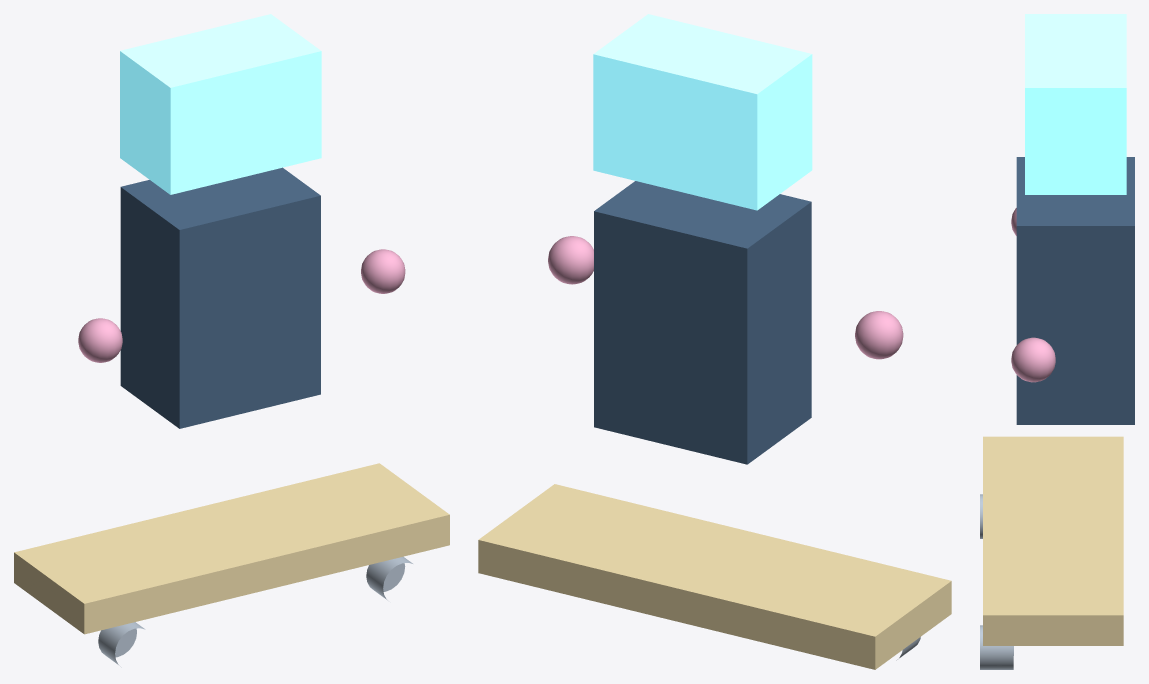
File: neon-skate-bot.glb
The picture shows the model from 3 angles, left to right: view 1: azimuth 30°, elevation 25°; view 2: azimuth 150°, elevation 25°; view 3: azimuth 270°, elevation 25°; orthographic projection. The views are drawn at different scales.
Parts seen in each view (by area): view 1: neon-skate-bot-bot-body, neon-skate-bot-skateboard, neon-skate-bot-bot-head, neon-skate-bot-right-hand, neon-skate-bot-left-hand, neon-skate-bot-back-wheel, neon-skate-bot-front-wheel; view 2: neon-skate-bot-bot-body, neon-skate-bot-skateboard, neon-skate-bot-bot-head, neon-skate-bot-left-hand, neon-skate-bot-right-hand; view 3: neon-skate-bot-skateboard, neon-skate-bot-bot-body, neon-skate-bot-bot-head, neon-skate-bot-right-hand, neon-skate-bot-front-wheel.
Part boxes in pixels (x1,y1,x2,y2): neon-skate-bot-bot-body: (120,167,320,428); neon-skate-bot-skateboard: (14,463,449,634); neon-skate-bot-bot-head: (120,14,321,194); neon-skate-bot-right-hand: (361,249,405,293); neon-skate-bot-left-hand: (78,318,122,362); neon-skate-bot-back-wheel: (98,622,145,667); neon-skate-bot-front-wheel: (366,556,412,600); neon-skate-bot-bot-body: (594,181,811,464); neon-skate-bot-skateboard: (478,484,951,669); neon-skate-bot-bot-head: (593,14,812,210); neon-skate-bot-left-hand: (855,311,903,359); neon-skate-bot-right-hand: (548,236,593,284); neon-skate-bot-skateboard: (983,436,1123,645); neon-skate-bot-bot-body: (1016,157,1134,424); neon-skate-bot-bot-head: (1025,14,1126,194); neon-skate-bot-right-hand: (1011,337,1055,382); neon-skate-bot-front-wheel: (980,625,1013,669).
Bounding box in the file's own units: 1.5 × 2.16 × 0.5501.
